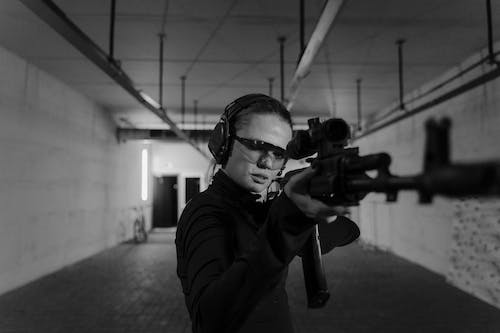gun: (274, 114, 500, 311)
